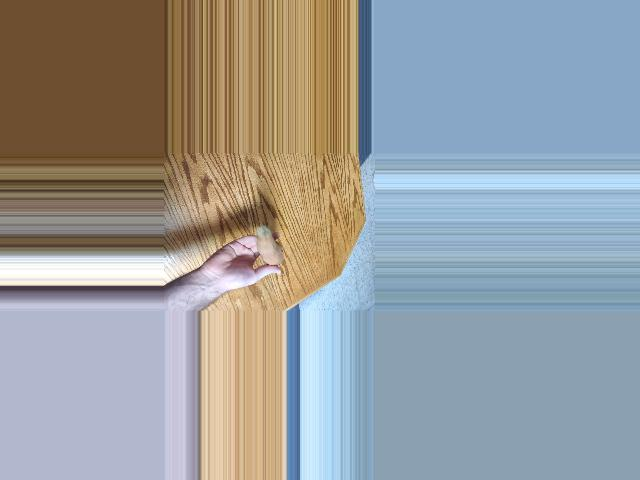sweet_potato: (252, 225, 278, 268)
